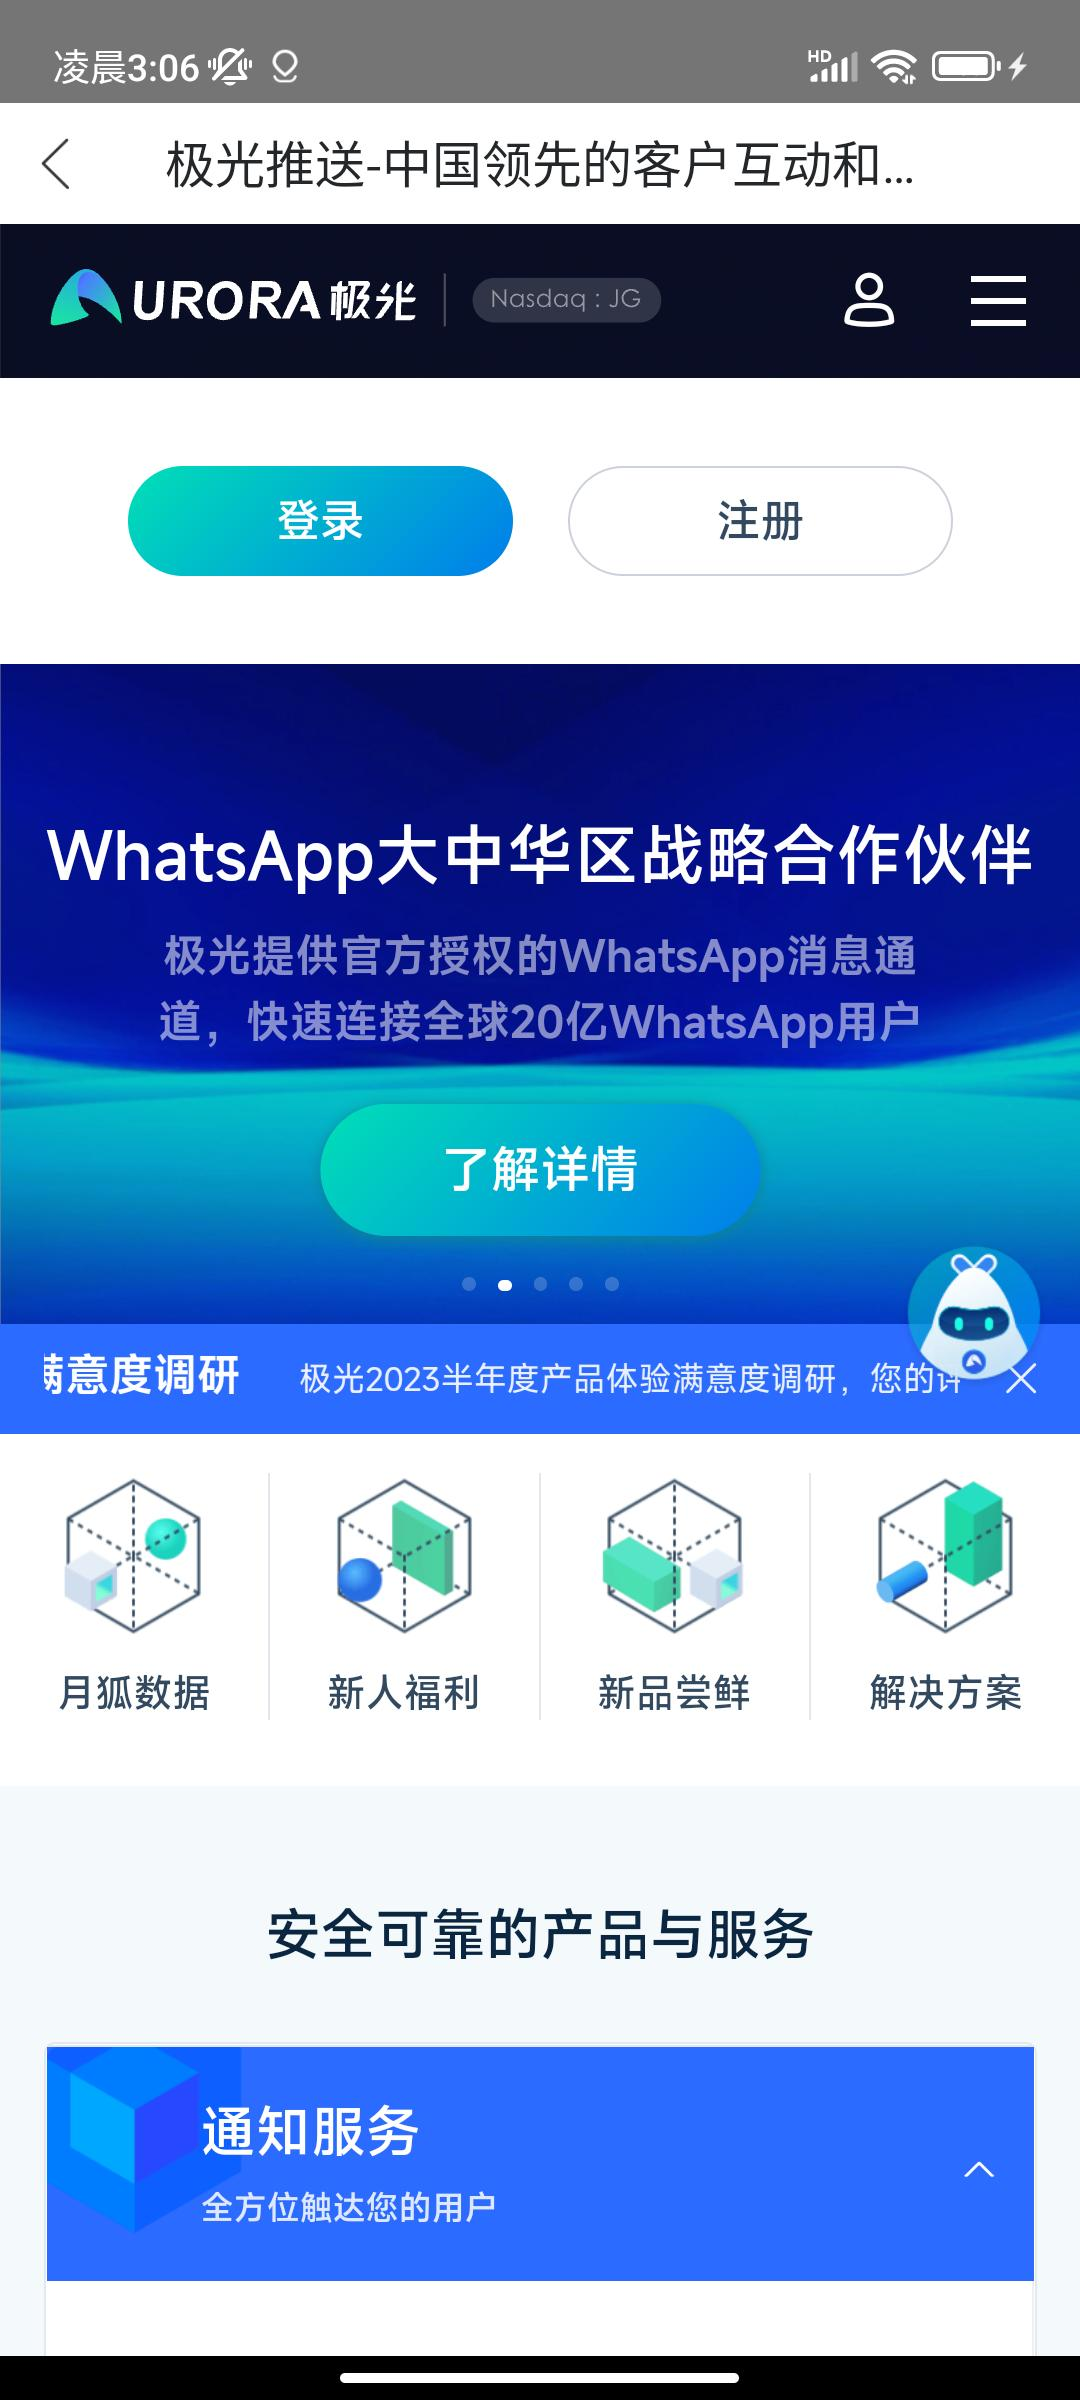ui_group: (2, 663, 1080, 1322), (52, 2045, 1036, 2284), (828, 1466, 1054, 1740), (564, 1466, 782, 1728), (312, 1463, 525, 1730), (44, 1462, 234, 1736)
